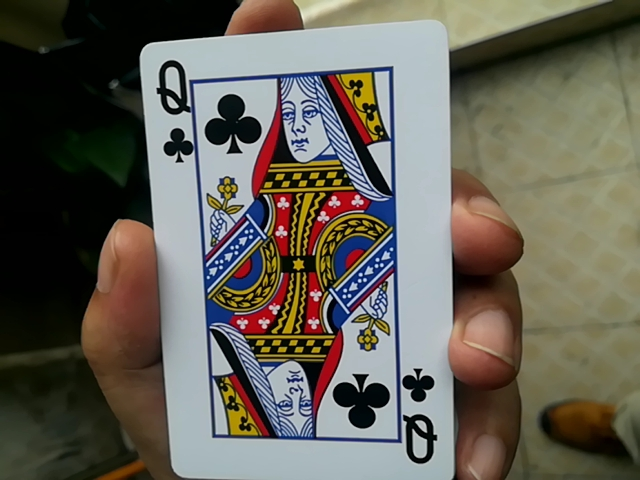mh q: (125, 17, 462, 478)
